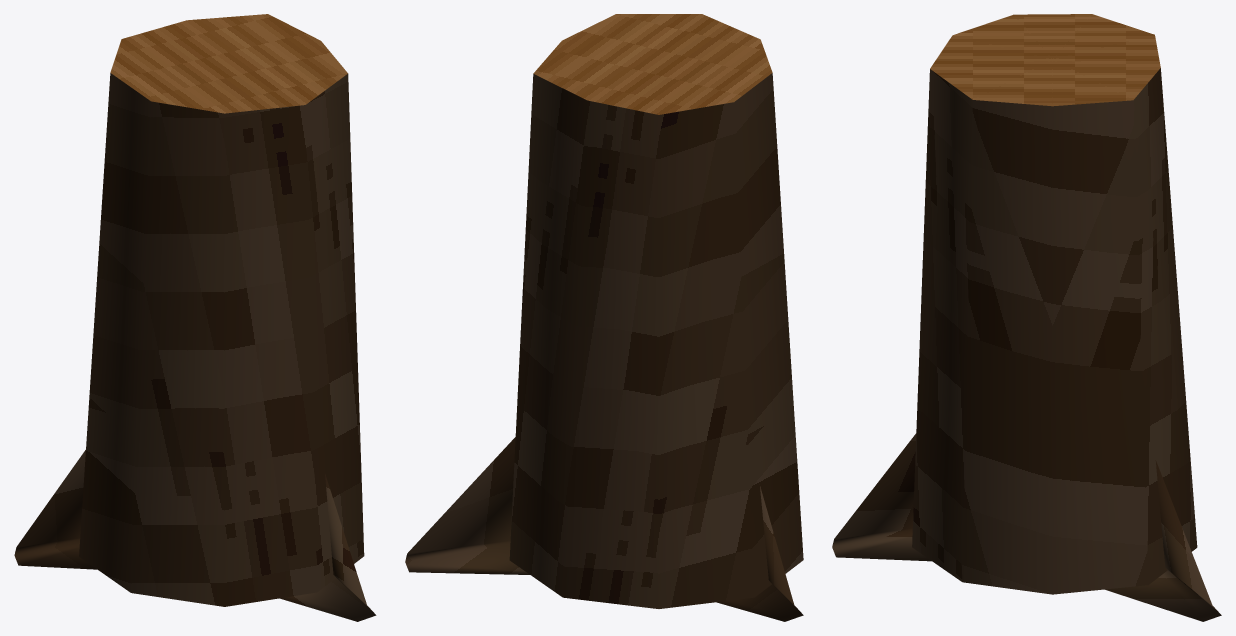
The model's file is stump03_update-lod1.glb.
3 views of the same model, side by side, from view 1: azimuth 30°, elevation 25°; view 2: azimuth 150°, elevation 25°; view 3: azimuth 270°, elevation 25° (orthographic).
Visible parts, largest first — view 1: TZ_stump_Batch_00_LOD1, TZ_stump_Batch_01_LOD1; view 2: TZ_stump_Batch_00_LOD1, TZ_stump_Batch_01_LOD1; view 3: TZ_stump_Batch_00_LOD1, TZ_stump_Batch_01_LOD1.
Boxes of the visible parts, x1=… form: TZ_stump_Batch_00_LOD1: x1=14, y1=73, x2=376, y2=621; TZ_stump_Batch_01_LOD1: x1=110, y1=14, x2=347, y2=113; TZ_stump_Batch_00_LOD1: x1=405, y1=73, x2=803, y2=621; TZ_stump_Batch_01_LOD1: x1=533, y1=14, x2=772, y2=114; TZ_stump_Batch_00_LOD1: x1=832, y1=68, x2=1221, y2=621; TZ_stump_Batch_01_LOD1: x1=930, y1=14, x2=1160, y2=106.
Size of the model in its own units: 0.5646 by 0.74 by 0.5478.
Materials: 2 (2 with a texture image).
